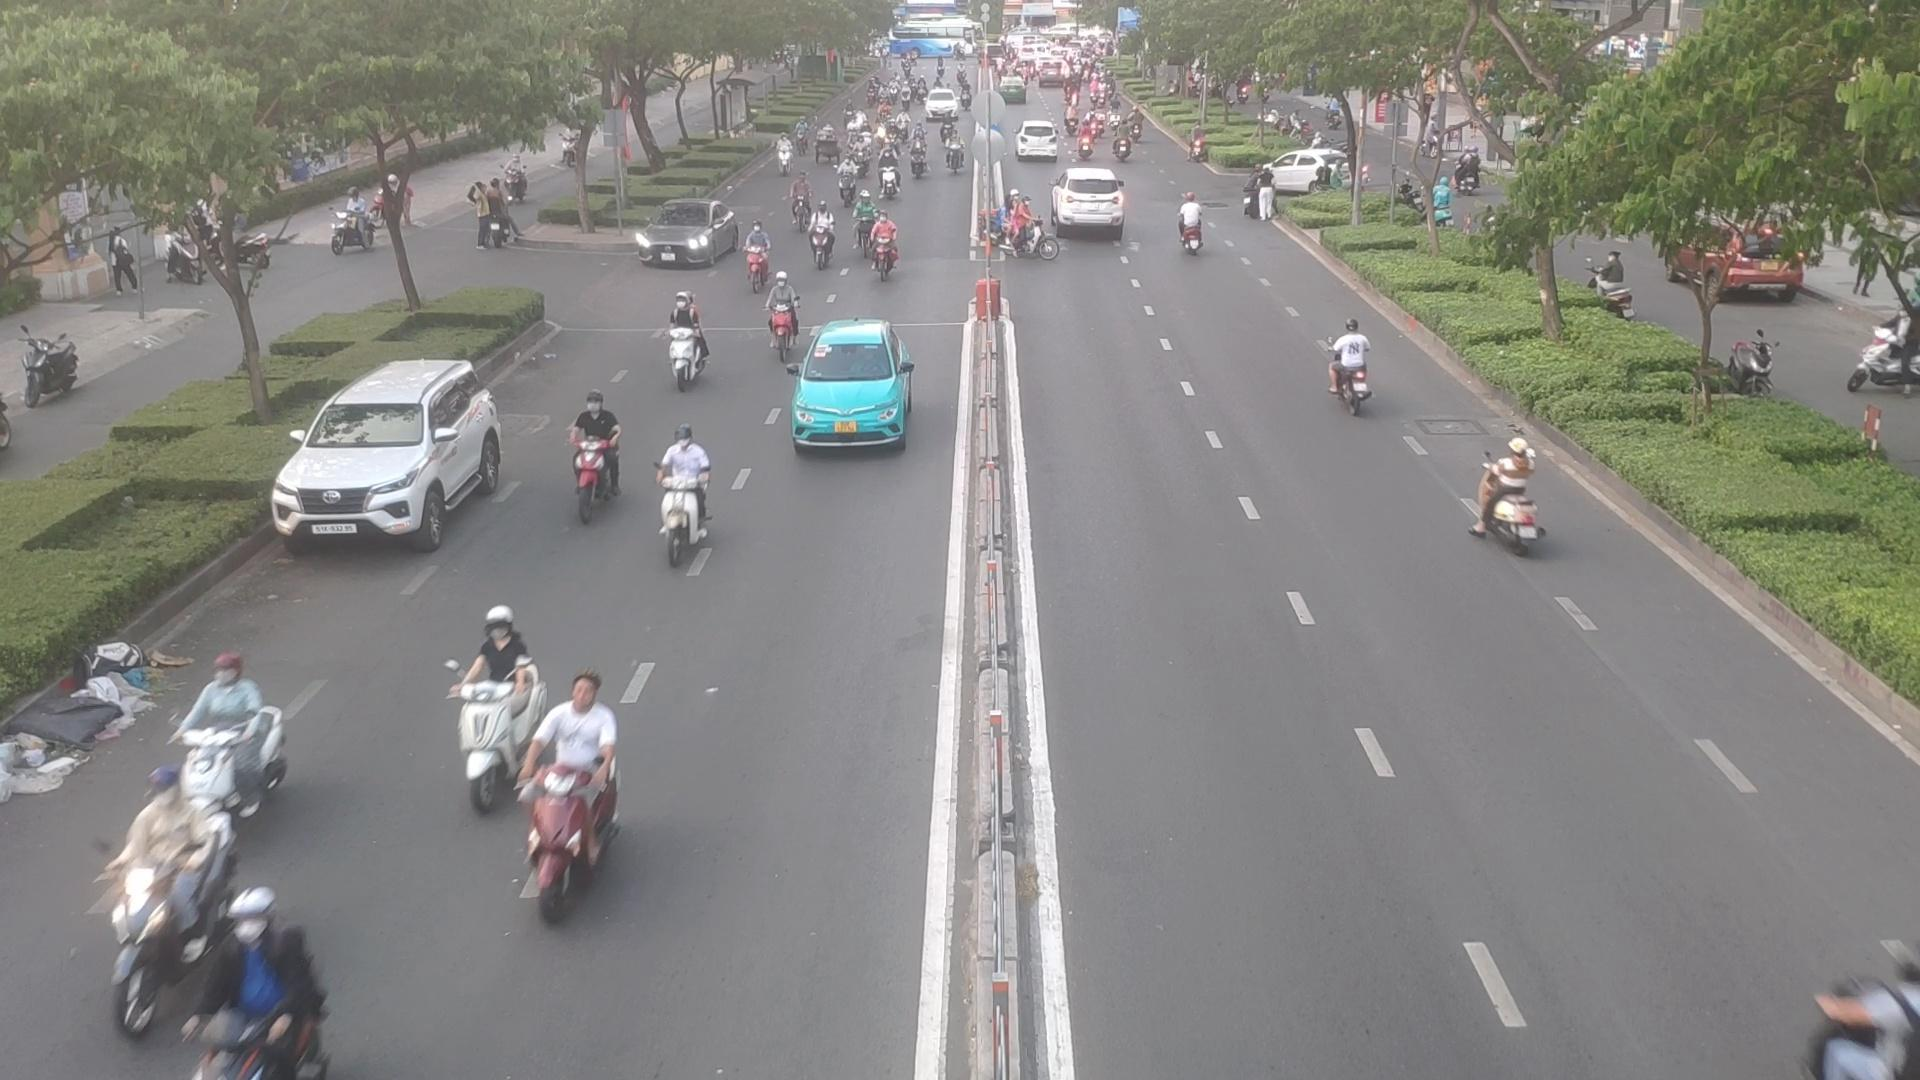car: (273, 361, 506, 555), (789, 322, 909, 451), (632, 203, 745, 270), (1058, 167, 1133, 236), (1265, 148, 1353, 193), (1015, 123, 1065, 161)
motorbike: (167, 642, 332, 825), (196, 877, 324, 1080), (100, 775, 204, 1006), (516, 678, 613, 916), (442, 613, 537, 822), (562, 386, 628, 539), (644, 419, 702, 560), (1313, 316, 1387, 417), (1470, 452, 1542, 554), (655, 286, 709, 388), (1000, 199, 1048, 268), (865, 204, 902, 290), (761, 270, 800, 339), (1174, 193, 1207, 265), (810, 203, 837, 272), (745, 229, 777, 286), (855, 187, 881, 244), (793, 179, 816, 235), (878, 142, 902, 191), (833, 156, 855, 206), (909, 131, 928, 175), (774, 133, 795, 174), (853, 135, 872, 169), (945, 128, 961, 167)
